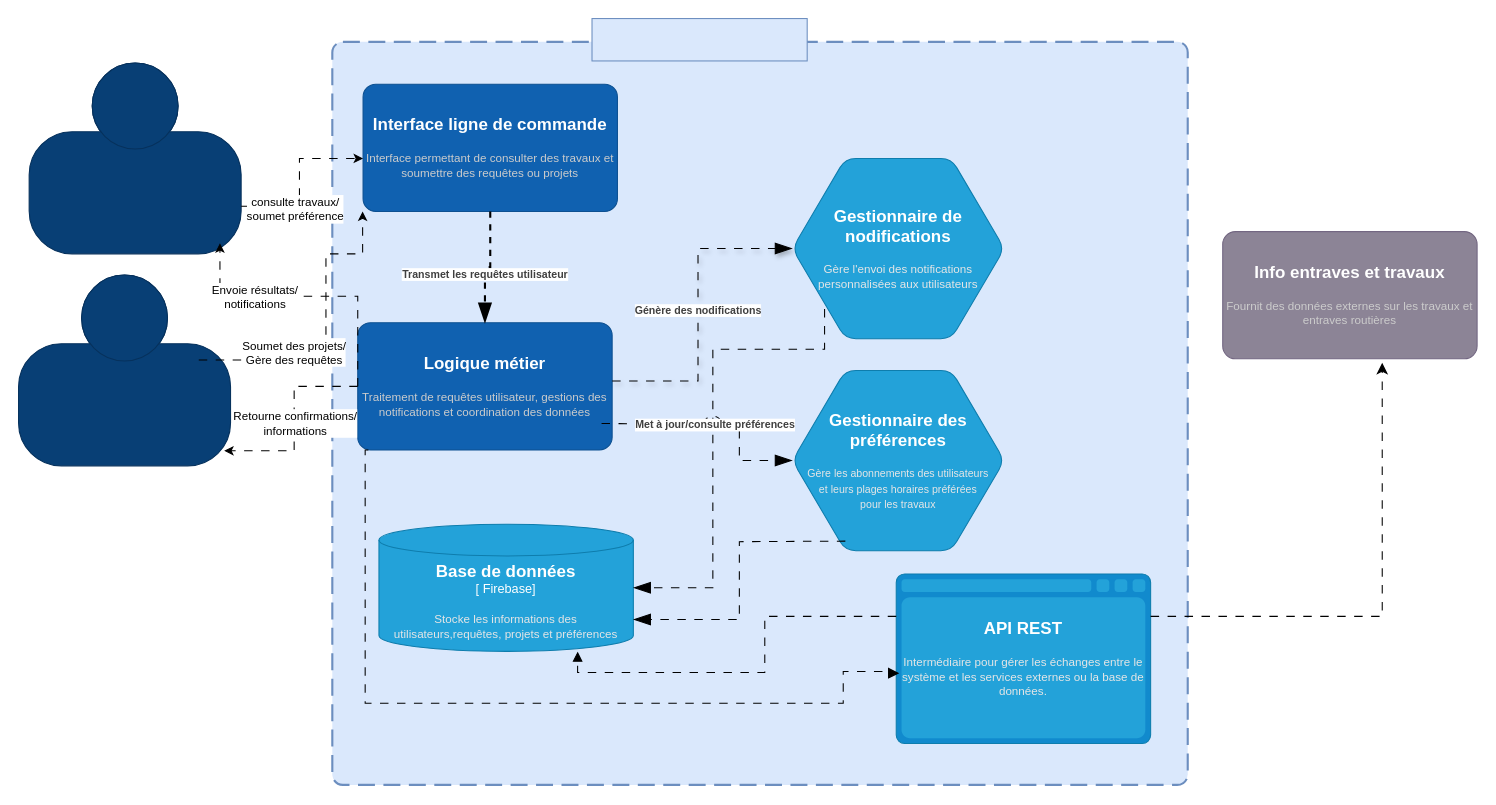
Some shapes in this 1496 by 805 pixel diagram are drawn without their labels. Each missing label, with the centre of its shape:
Intervenant [Personne]: [124,370]
Résident [Personne]: [134,158]
Système MaVille: [699,39]
